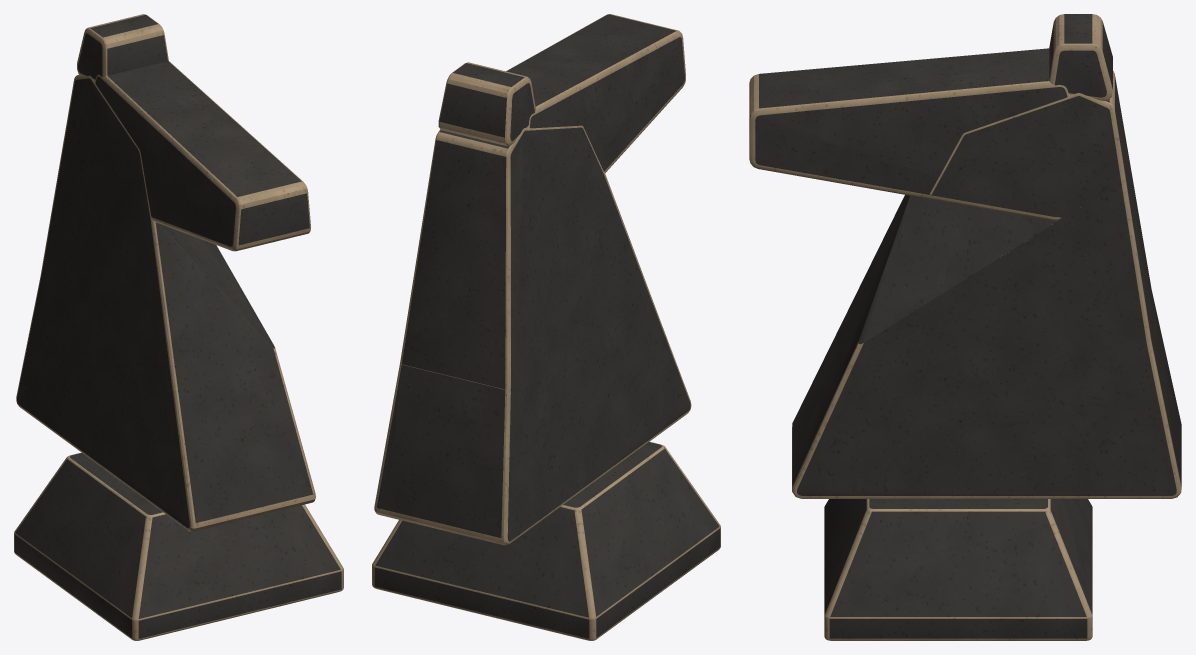
The model's file is jezdec_cerny.glb.
The picture shows the model from 3 angles, left to right: view 1: azimuth 30°, elevation 25°; view 2: azimuth 150°, elevation 25°; view 3: azimuth 270°, elevation 25°; orthographic projection. The views are drawn at different scales.
Visible parts, largest first — view 1: knight_black; view 2: knight_black; view 3: knight_black.
Part boxes in pixels (bbox=[...]): knight_black: bbox=[14, 14, 343, 640]; knight_black: bbox=[372, 14, 720, 640]; knight_black: bbox=[749, 14, 1181, 640].
Bounding box in the file's own units: 0.03 × 0.0687 × 0.0484.
Materials: 2 (2 with a texture image).
